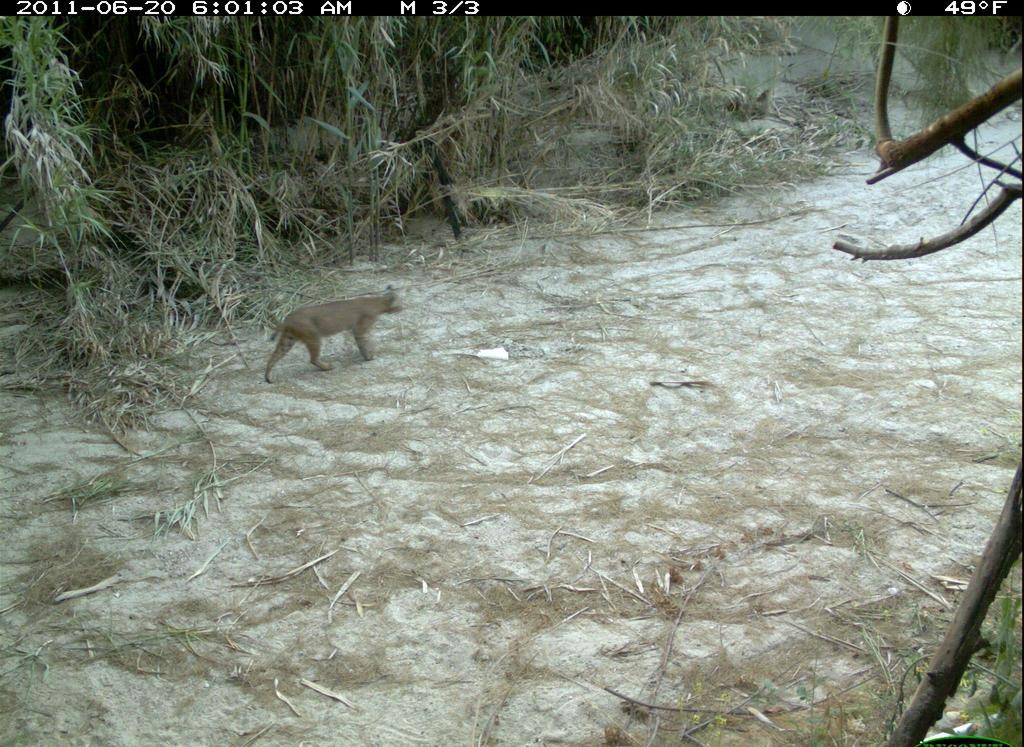bobcat: (253, 285, 413, 392)
